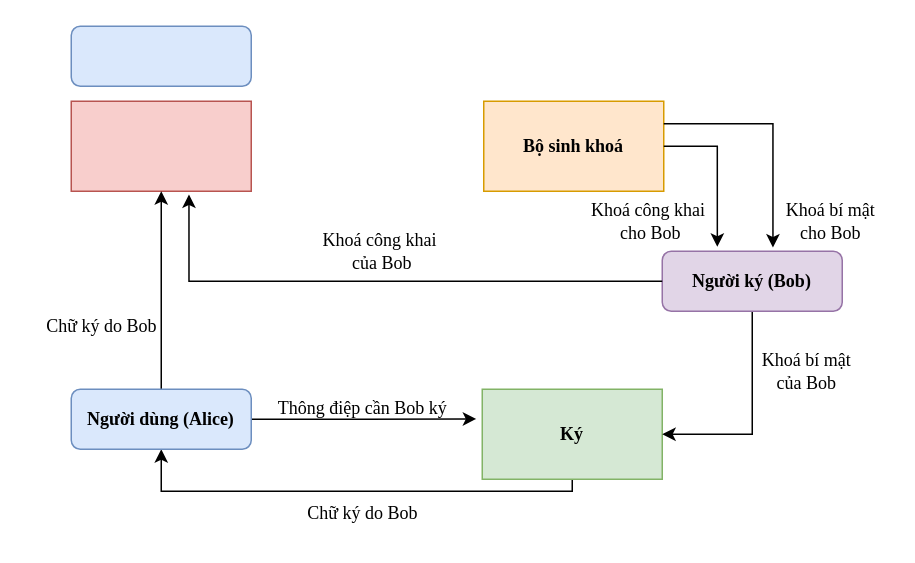
The diagram is 915 pixels wide and 563 high, and some of its shapes have lost their labels. The centre of each missing label's shape, as x and y in pixels:
Người xác thực (Carol): [160,55]
Xác thực: [160,145]
